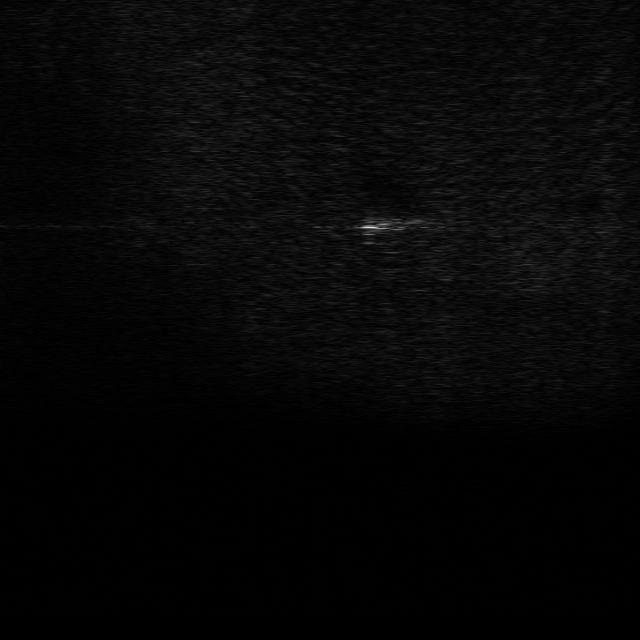plane: (358, 211, 422, 239)
